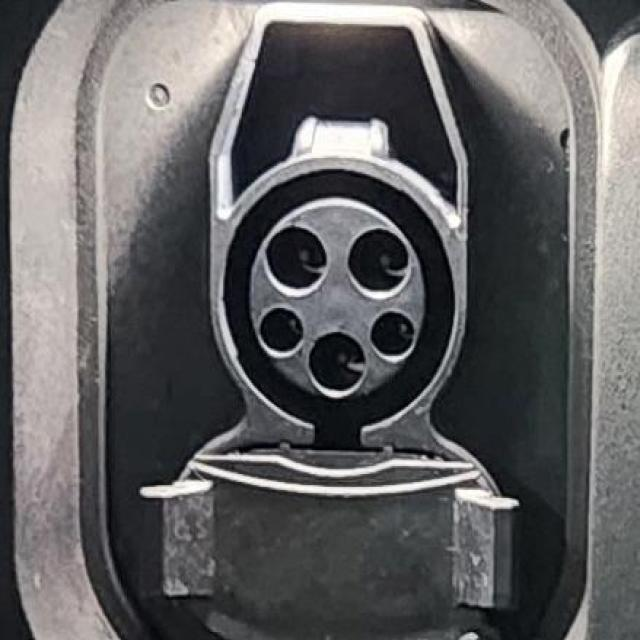Type 1: (227, 183, 461, 419)
